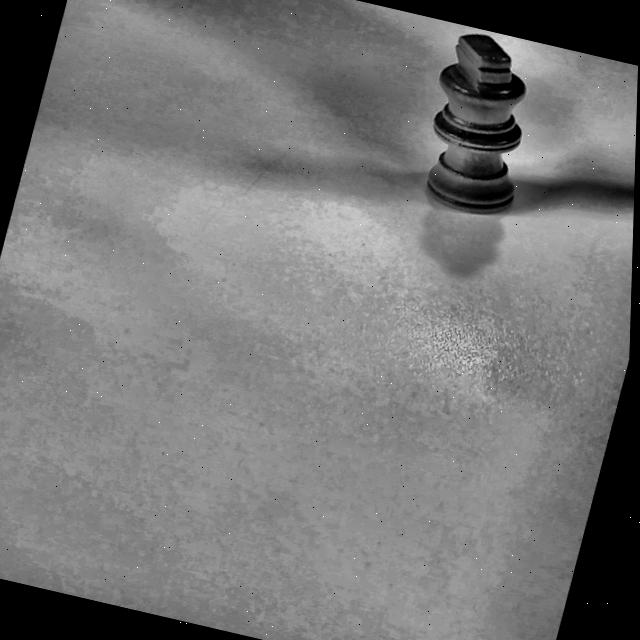black-king: (391, 20, 570, 240)
